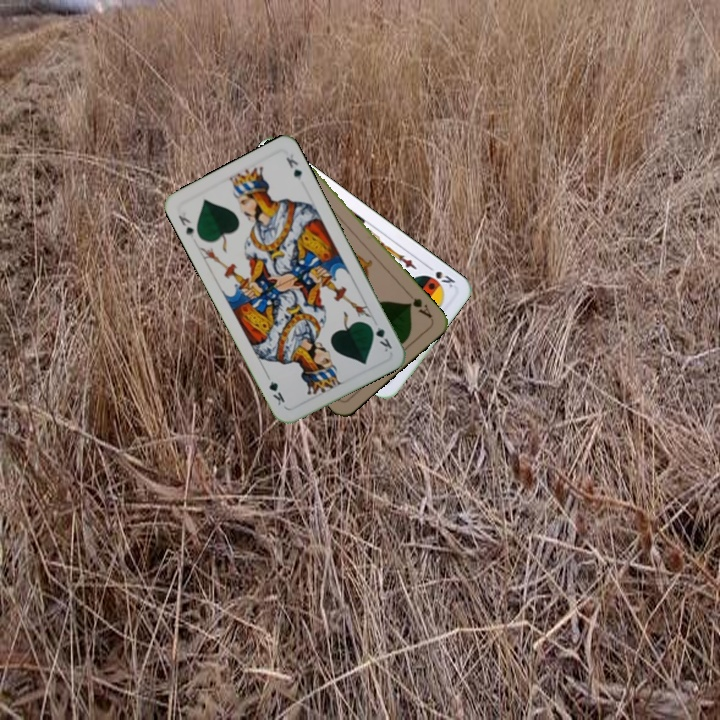GA: (403, 288, 434, 321)
GK: (365, 320, 395, 354), (174, 211, 196, 240)
SK: (422, 261, 458, 290)
